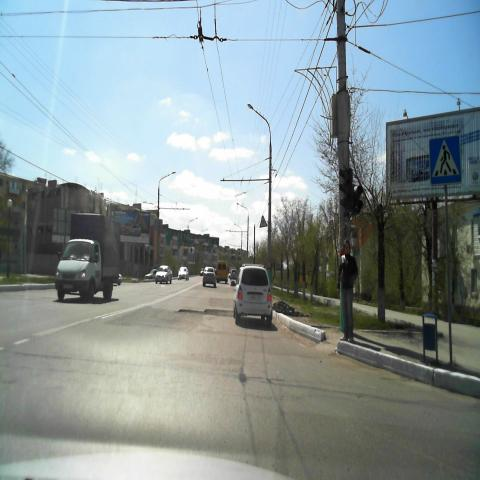1_23: (260, 215, 268, 228)
5_19_1: (429, 134, 461, 185)
